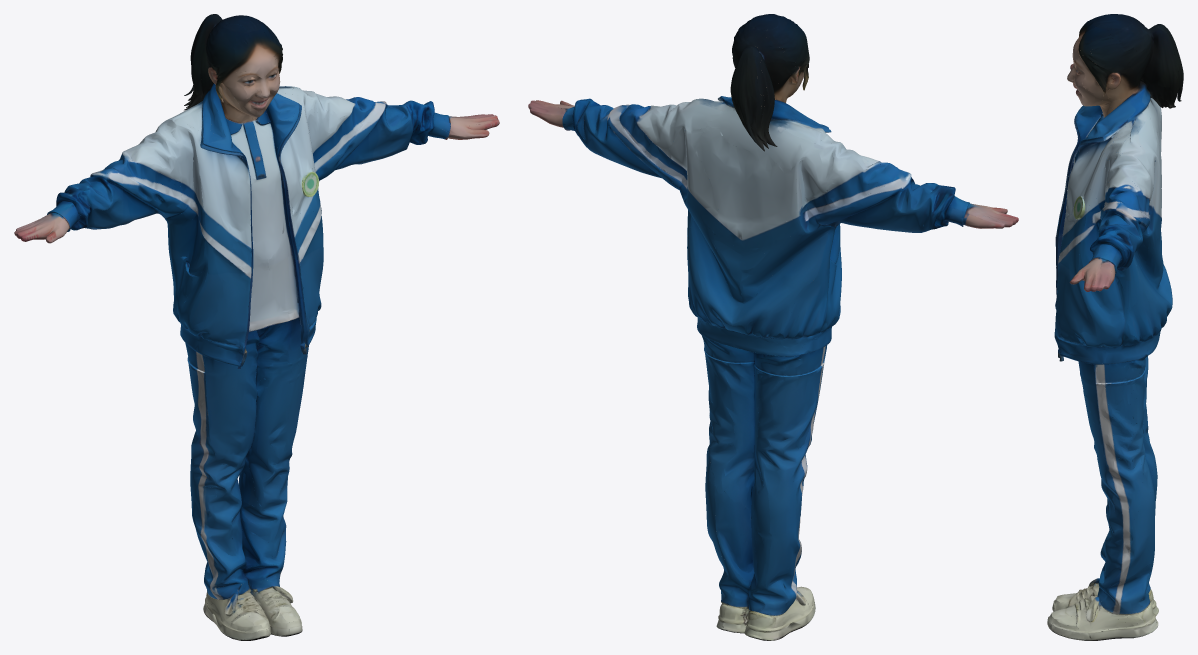
The model's file is studentFamale-01.fbx.
The picture shows the model from 3 angles, left to right: view 1: azimuth 30°, elevation 25°; view 2: azimuth 150°, elevation 25°; view 3: azimuth 270°, elevation 25°; orthographic projection.
Visible parts, largest first — view 1: material; view 2: material; view 3: material.
Boxes of the visible parts, left/top/right/bottom form: material: left=14, top=14, right=499, bottom=640; material: left=528, top=14, right=1018, bottom=640; material: left=1047, top=14, right=1183, bottom=640.
Size of the model in its own units: 99.39 by 119 by 24.31.
Materials: 1 (1 with a texture image).
